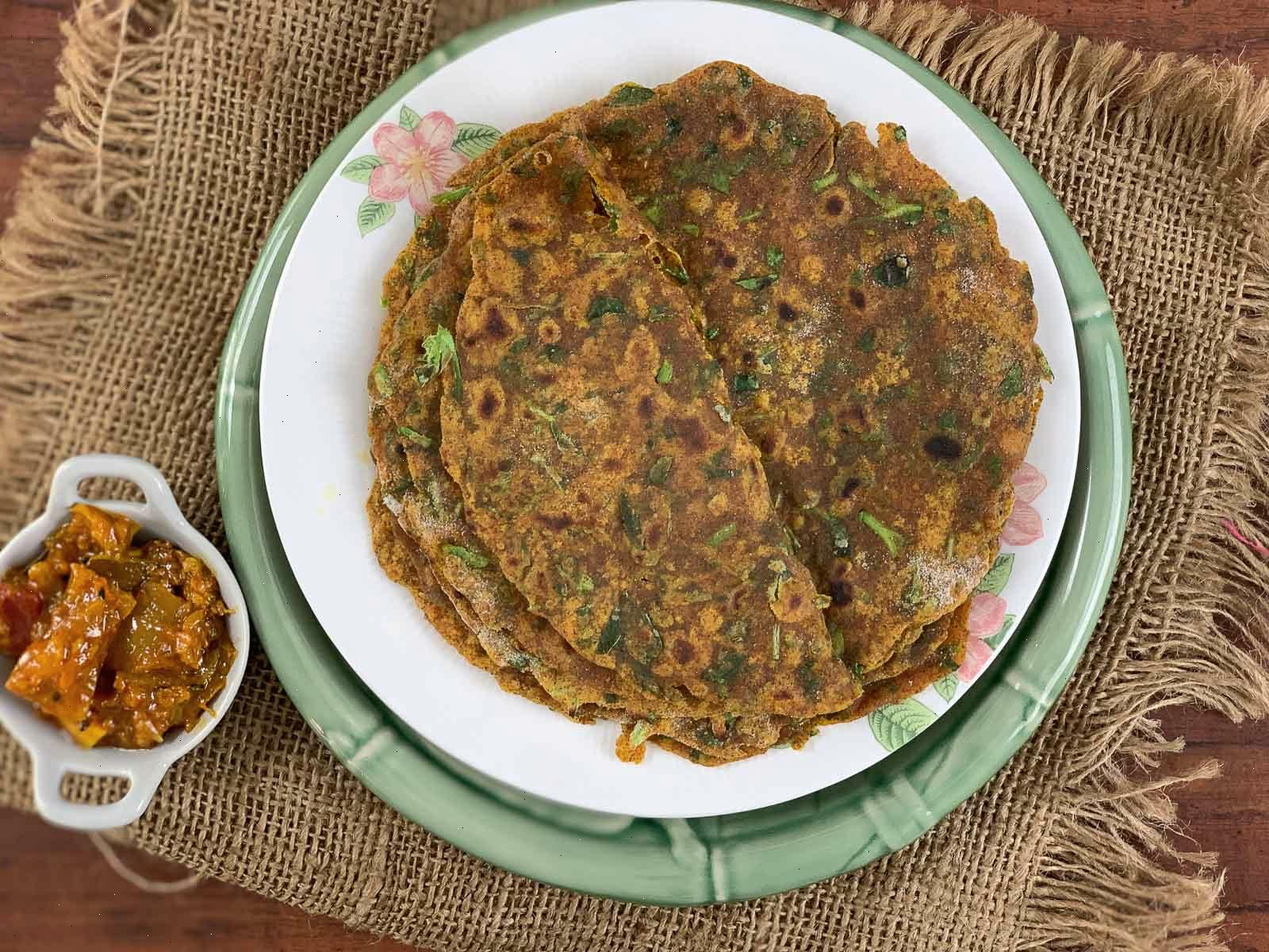thepla: (411, 107, 1003, 693)
